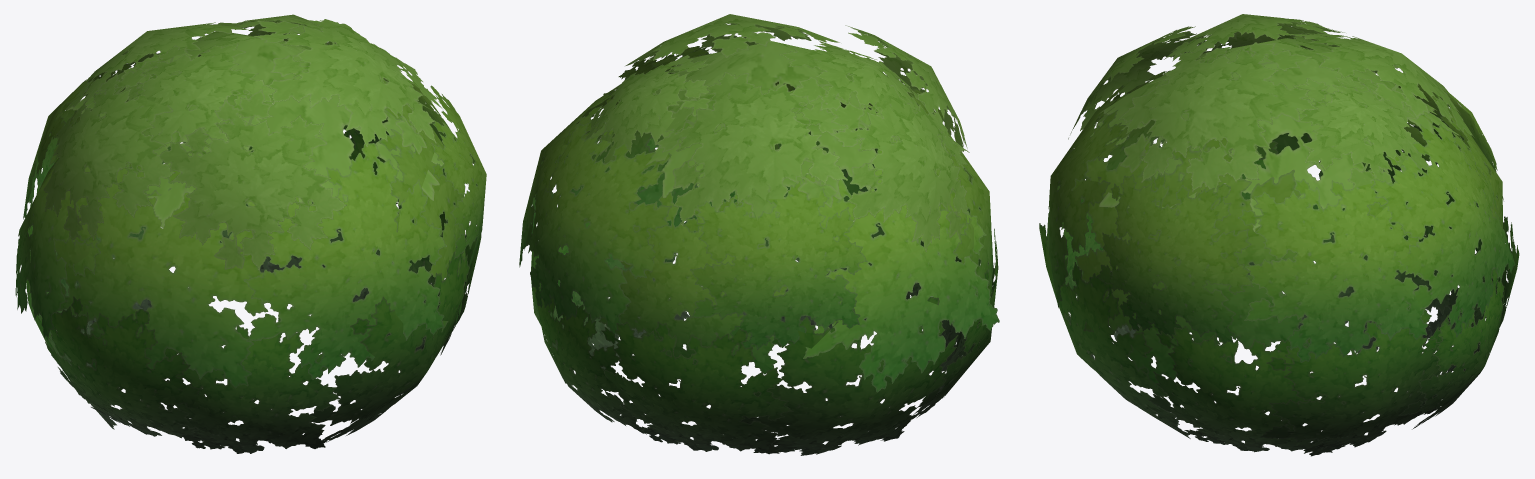
File: Plants04_2.FBX
3 renders of one model, left to right at view 1: azimuth 30°, elevation 25°; view 2: azimuth 150°, elevation 25°; view 3: azimuth 270°, elevation 25°, orthographic.
Visible parts, largest first — view 1: Plants04_2; view 2: Plants04_2; view 3: Plants04_2.
Part boxes in pixels (<box>): Plants04_2: <box>15,14,486,453</box>; Plants04_2: <box>519,14,999,455</box>; Plants04_2: <box>1039,14,1519,456</box>.
Size of the model in its own units: 100 by 83.77 by 98.11.
